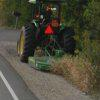Tractor: (18, 10, 79, 65)
